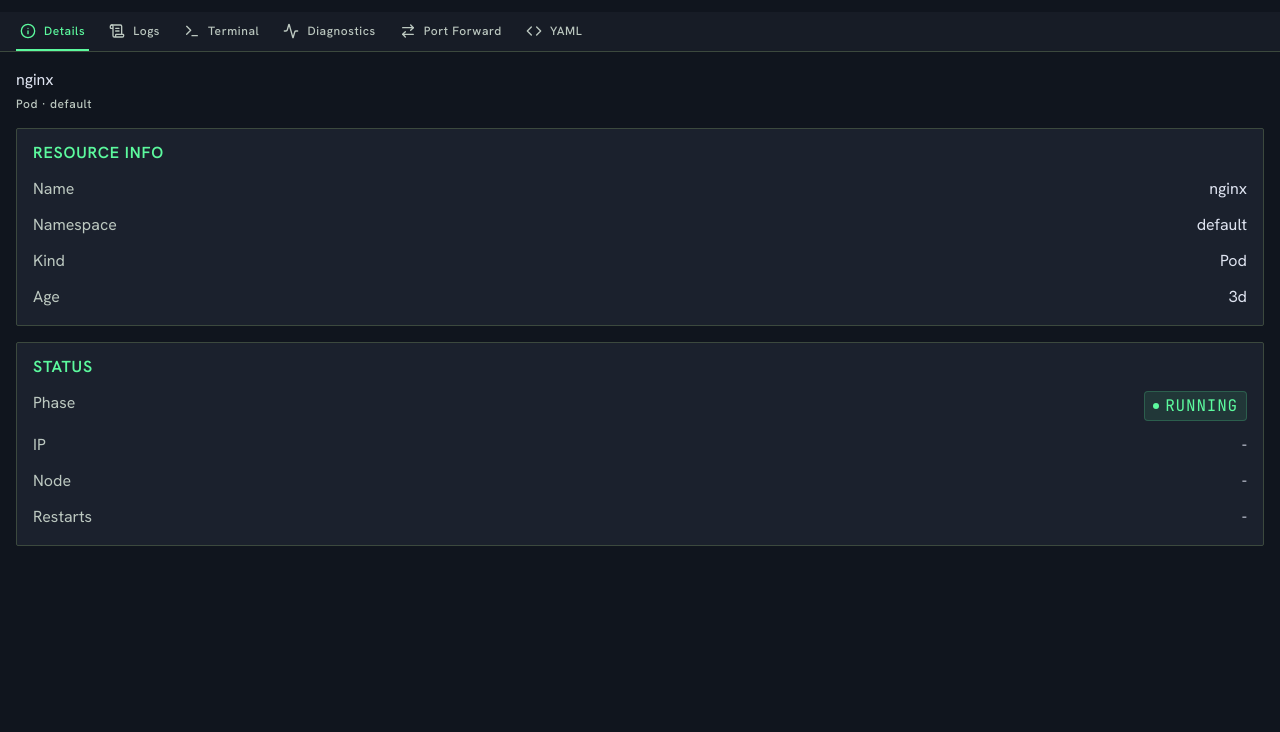
PodDetailTabs › shows connecting message when terminal tab is first opened
Click the button "Terminal" at (222, 32), box [180,12,263,51]
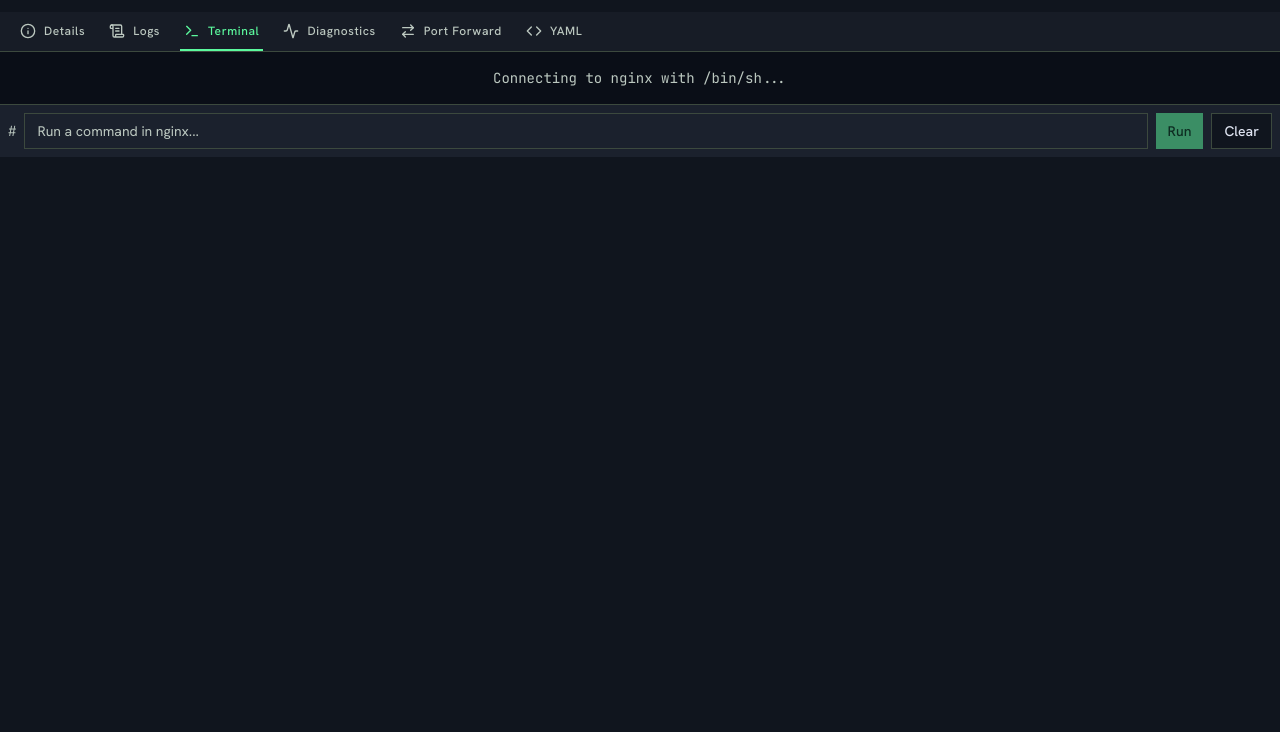
Expected: the text "Connecting to nginx with /bin/sh..." is shown, [493,68,787,88]
